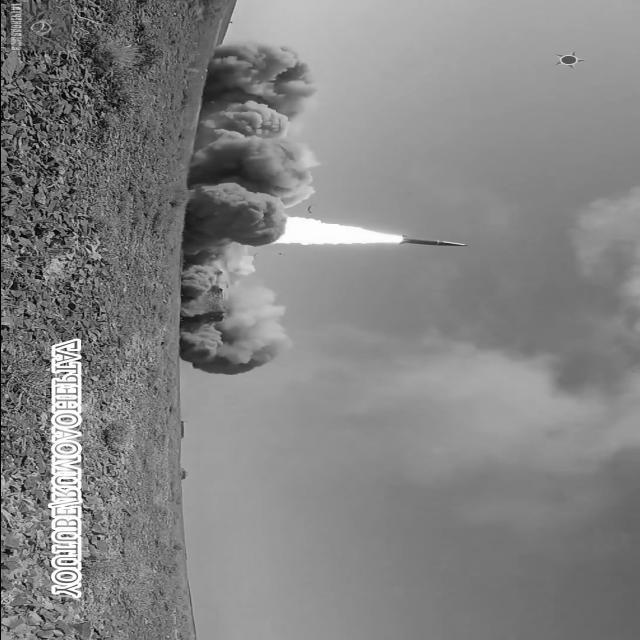missile: (383, 234, 474, 252)
